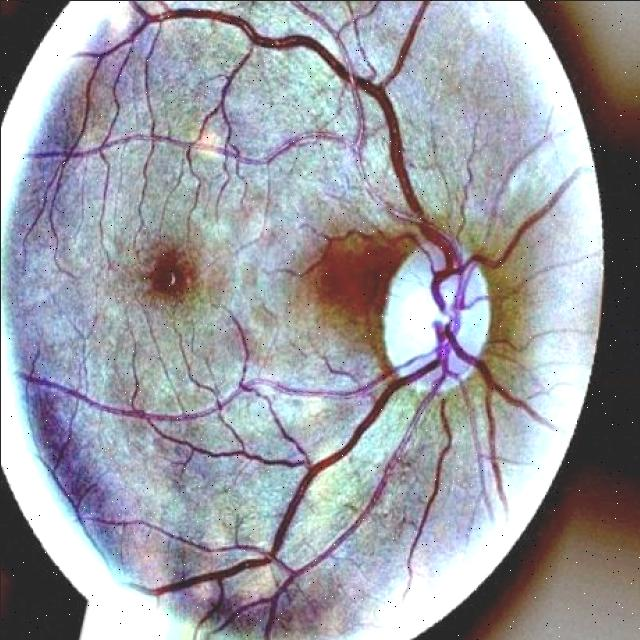Macula: (146, 249, 193, 299)
Nerves: (133, 0, 570, 640), (405, 398, 452, 594)
Optic Disk: (380, 246, 486, 378)
